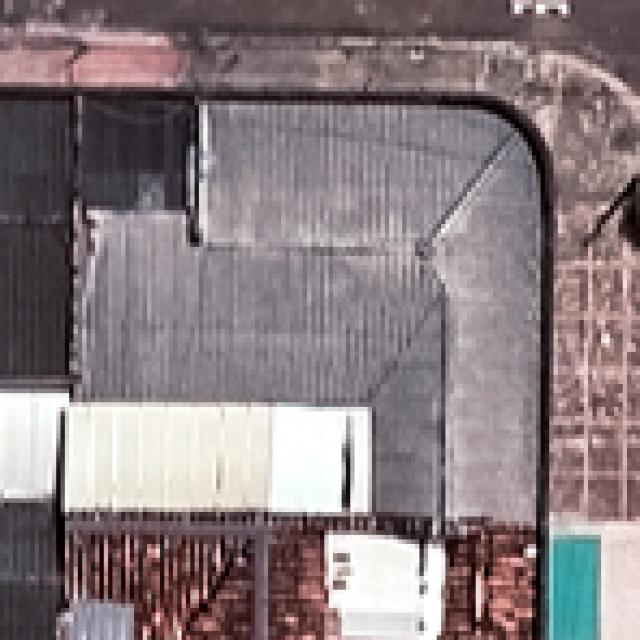Batiment: (76, 102, 540, 523), (65, 514, 425, 639), (444, 522, 536, 639)
